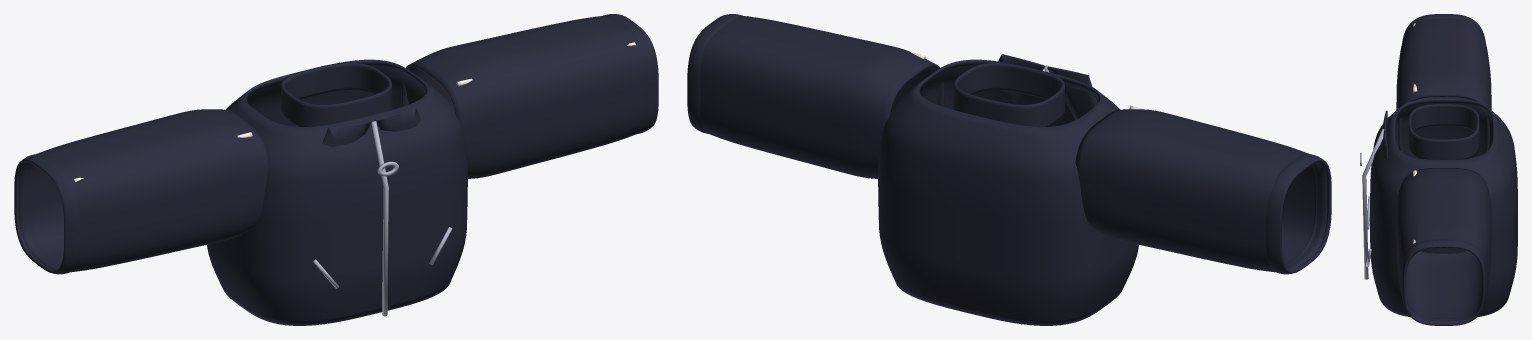
File: coach_track_jacket.glb
The picture shows the model from 3 angles, left to right: view 1: azimuth 30°, elevation 25°; view 2: azimuth 150°, elevation 25°; view 3: azimuth 270°, elevation 25°; orthographic projection. The views are drawn at different scales.
Visible parts, largest first — view 1: coach_track_jacket__body, coach_track_jacket__sleeve_r, coach_track_jacket__sleeve_l, coach_track_jacket__collar_band, coach_track_jacket__cuff_r, coach_track_jacket__cuff_l, coach_track_jacket__zipper, coach_track_jacket__collar_point_r, coach_track_jacket__collar_point_l; view 2: coach_track_jacket__body, coach_track_jacket__sleeve_r, coach_track_jacket__sleeve_l, coach_track_jacket__collar_band, coach_track_jacket__cuff_r, coach_track_jacket__cuff_l, coach_track_jacket__collar_point_r, coach_track_jacket__collar_point_l; view 3: coach_track_jacket__body, coach_track_jacket__sleeve_l, coach_track_jacket__sleeve_r, coach_track_jacket__collar_band, coach_track_jacket__cuff_l, coach_track_jacket__zipper, coach_track_jacket__cuff_r, coach_track_jacket__collar_point_l.
Boxes of the visible parts, x1,y1,x2,y2 form: coach_track_jacket__body: [207, 59, 467, 325]; coach_track_jacket__sleeve_r: [18, 109, 270, 272]; coach_track_jacket__sleeve_l: [401, 15, 645, 178]; coach_track_jacket__collar_band: [280, 62, 392, 126]; coach_track_jacket__cuff_r: [14, 154, 79, 274]; coach_track_jacket__cuff_l: [603, 14, 658, 133]; coach_track_jacket__zipper: [371, 121, 388, 316]; coach_track_jacket__collar_point_r: [322, 120, 371, 146]; coach_track_jacket__collar_point_l: [374, 106, 420, 131]; coach_track_jacket__body: [878, 59, 1138, 325]; coach_track_jacket__sleeve_r: [1075, 109, 1327, 272]; coach_track_jacket__sleeve_l: [700, 15, 944, 178]; coach_track_jacket__collar_band: [953, 62, 1065, 126]; coach_track_jacket__cuff_r: [1266, 154, 1331, 274]; coach_track_jacket__cuff_l: [687, 14, 742, 133]; coach_track_jacket__collar_point_r: [1047, 66, 1097, 119]; coach_track_jacket__collar_point_l: [997, 54, 1044, 104]; coach_track_jacket__body: [1370, 98, 1517, 317]; coach_track_jacket__sleeve_l: [1396, 168, 1491, 323]; coach_track_jacket__sleeve_r: [1396, 18, 1491, 152]; coach_track_jacket__collar_band: [1408, 103, 1479, 159]; coach_track_jacket__cuff_l: [1401, 239, 1486, 325]; coach_track_jacket__zipper: [1362, 129, 1384, 279]; coach_track_jacket__cuff_r: [1402, 14, 1485, 98]; coach_track_jacket__collar_point_l: [1382, 129, 1387, 158].
Size of the model in its own units: 3.05 by 0.975 by 0.876.
